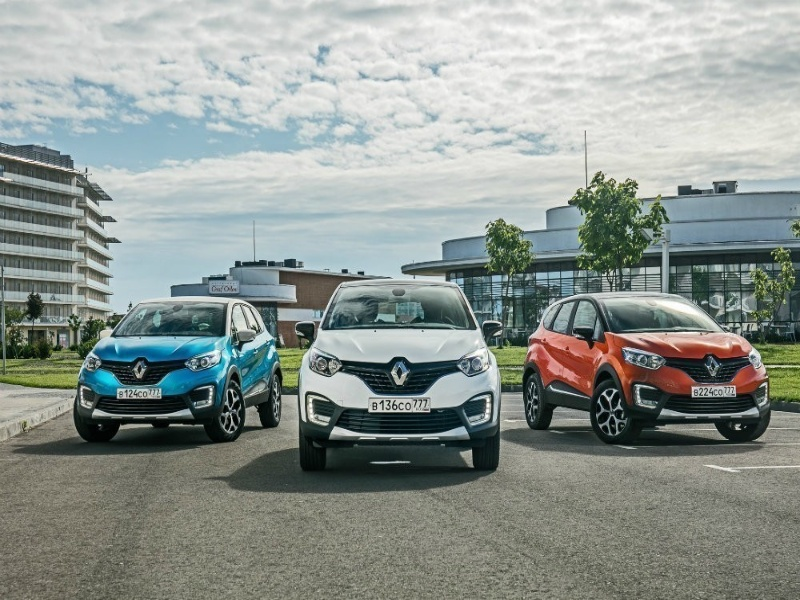car: (295, 280, 502, 470), (523, 292, 771, 445), (74, 296, 283, 441)
plate: (368, 398, 429, 412), (117, 389, 161, 399), (692, 386, 735, 396)
